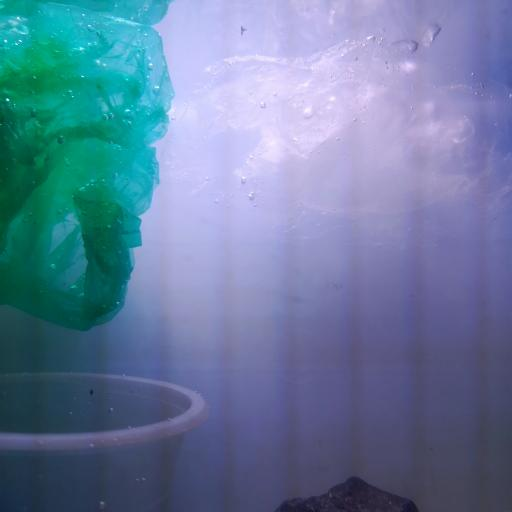plastic_bag: (0, 2, 174, 333), (192, 50, 478, 213)
plastic_cup: (0, 370, 210, 512)
